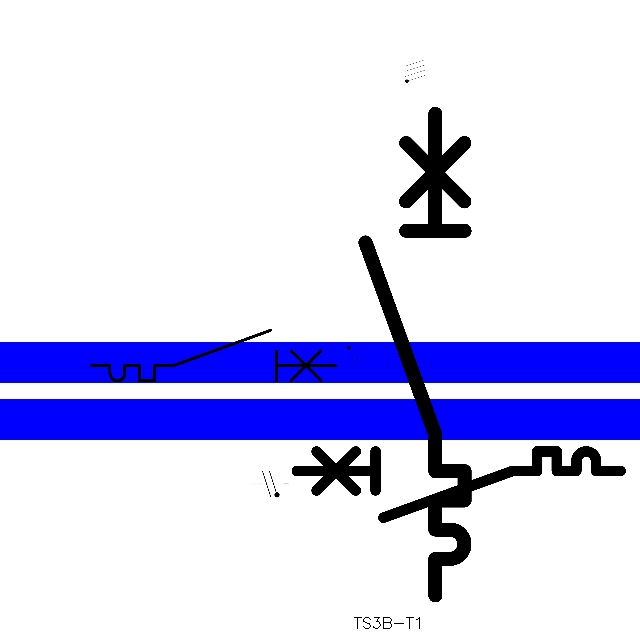interruptor_termomagnetico: (353, 101, 477, 607), (288, 443, 629, 526), (85, 324, 342, 387)
